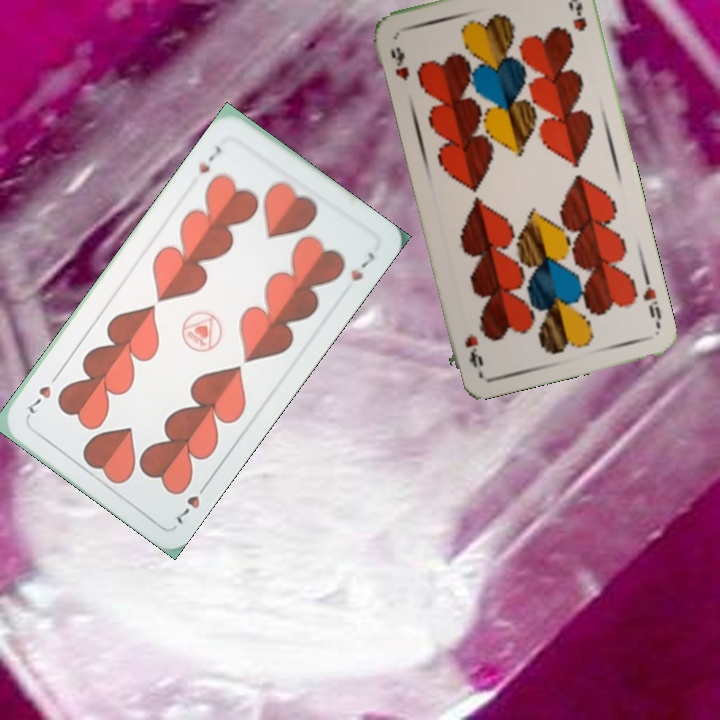H7: (172, 477, 212, 528), (194, 141, 225, 177)
H9: (639, 271, 664, 322), (386, 43, 412, 83)
